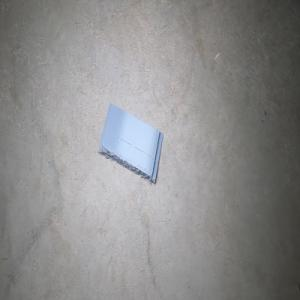PlasticPart: (98, 102, 163, 185)
